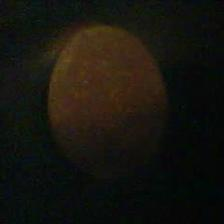fertile: (45, 22, 174, 176)
